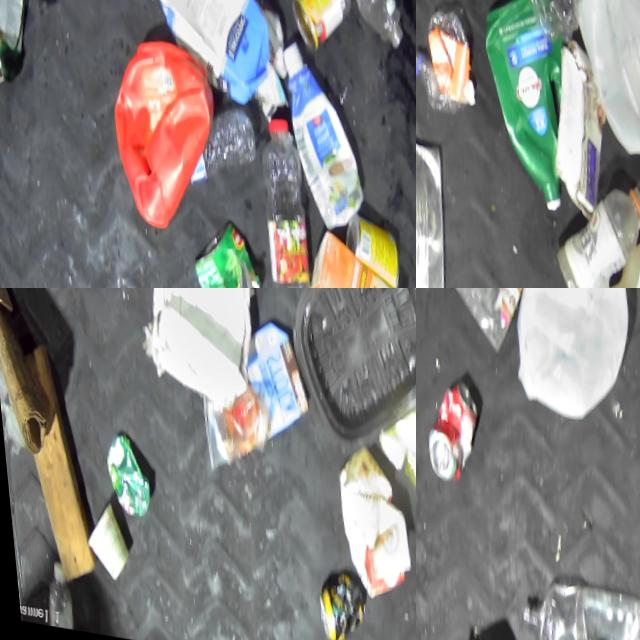can: (88, 29, 217, 230), (416, 373, 478, 482), (297, 549, 368, 640), (416, 117, 451, 288)
milk_jug: (496, 288, 640, 422), (554, 0, 640, 150)
non_white_jug: (466, 0, 570, 202)
plastic_bottle: (505, 558, 640, 640)
